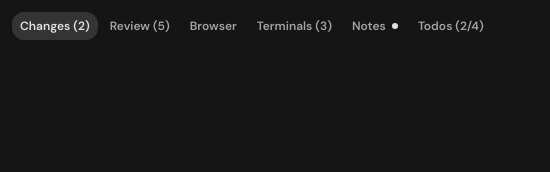
RightPanelTabs › shows file and terminal counts and the selected todo scope
Expected: the tab "Changes (2)" is shown, [12,12,98,40]
Expected: the tab "Review (5)" is shown, [102,12,178,40]
Focus the tab with test id "right-panel-tab-todos": (451,26) [410,12,492,40]
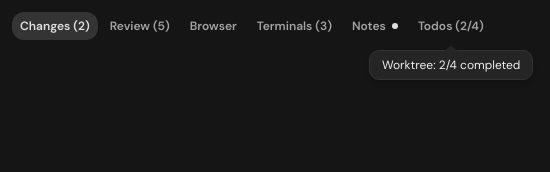
Expected: the tooltip reads "Worktree: 2/4 completed", [382,57,520,73]
